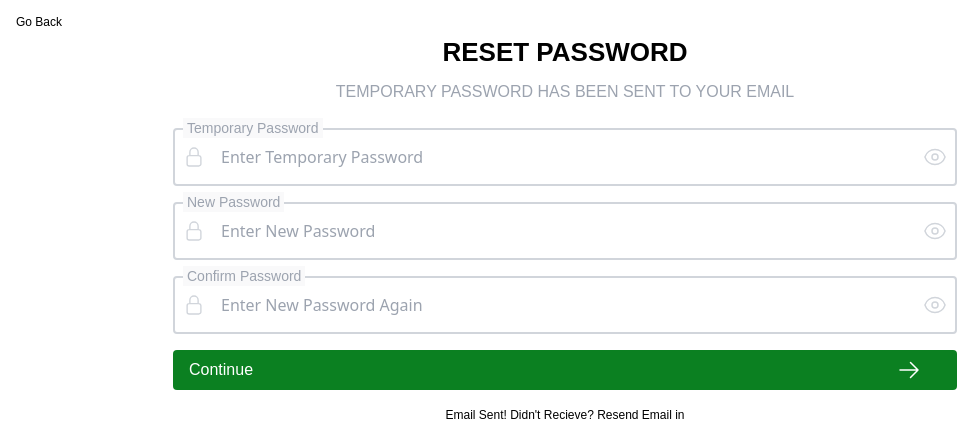
Test: ResetPassword Component › handles "User is blocked" error
Type "TempPass123!" into the password field with placeholder "Enter Temporary Password" at coordinates (564, 157), box [213,138,915,176]
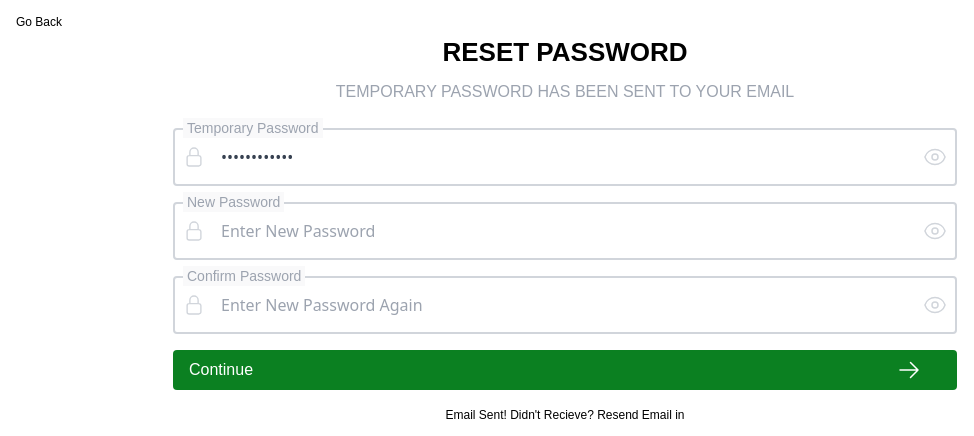
Type "NewPass123!" into the password field with placeholder "Enter New Password" at coordinates (564, 231), box [213,212,915,250]
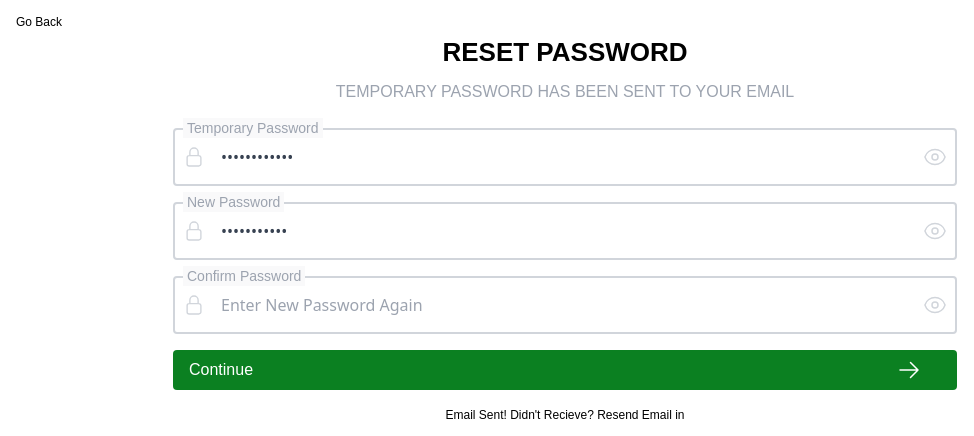
Type "NewPass123!" into the password field with placeholder "Enter New Password Again" at coordinates (564, 305), box [213,286,915,324]
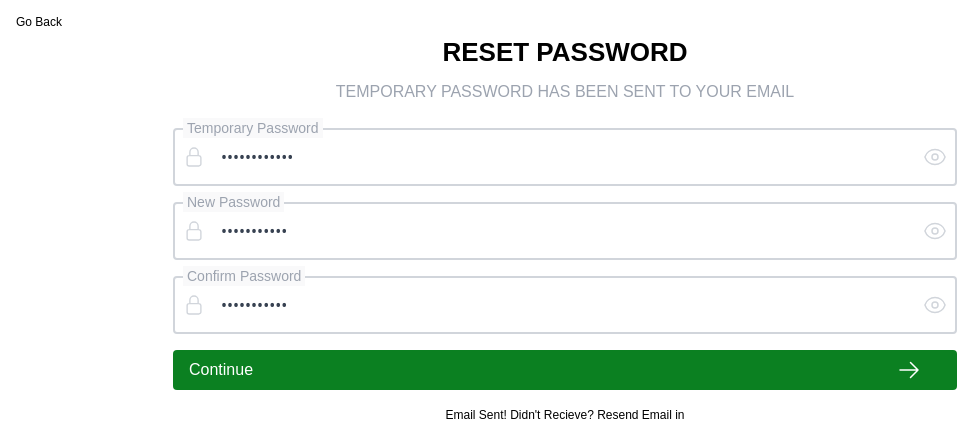
Click the button "Continue" at coordinates (221, 370), box [173,350,957,390]
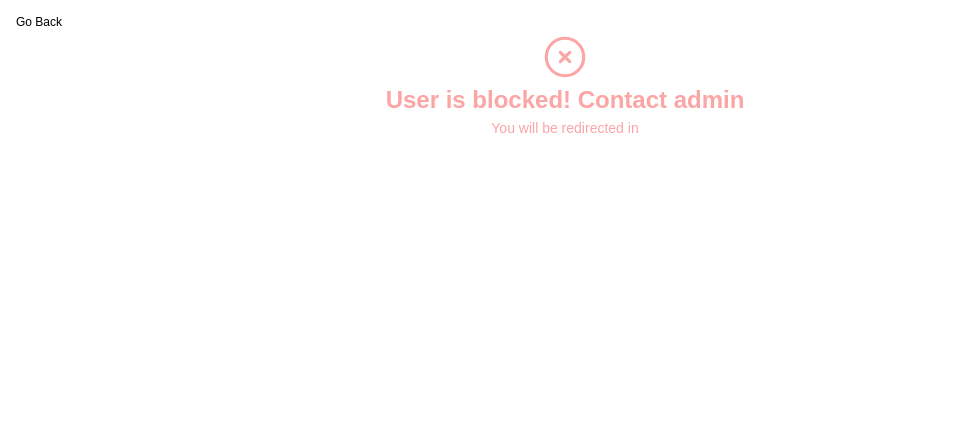
Result: the text "User is blocked! Contact admin" is shown at [386,82,744,118]
